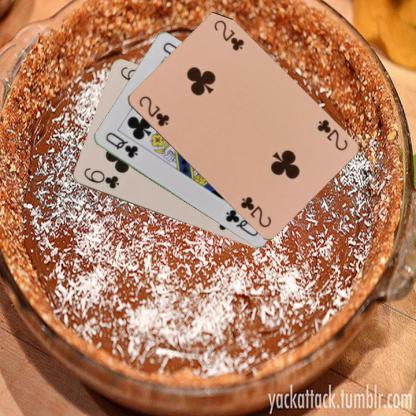2c: (136, 93, 171, 128), (314, 117, 348, 152)
6c: (80, 165, 120, 190)
Qc: (102, 130, 140, 160)
